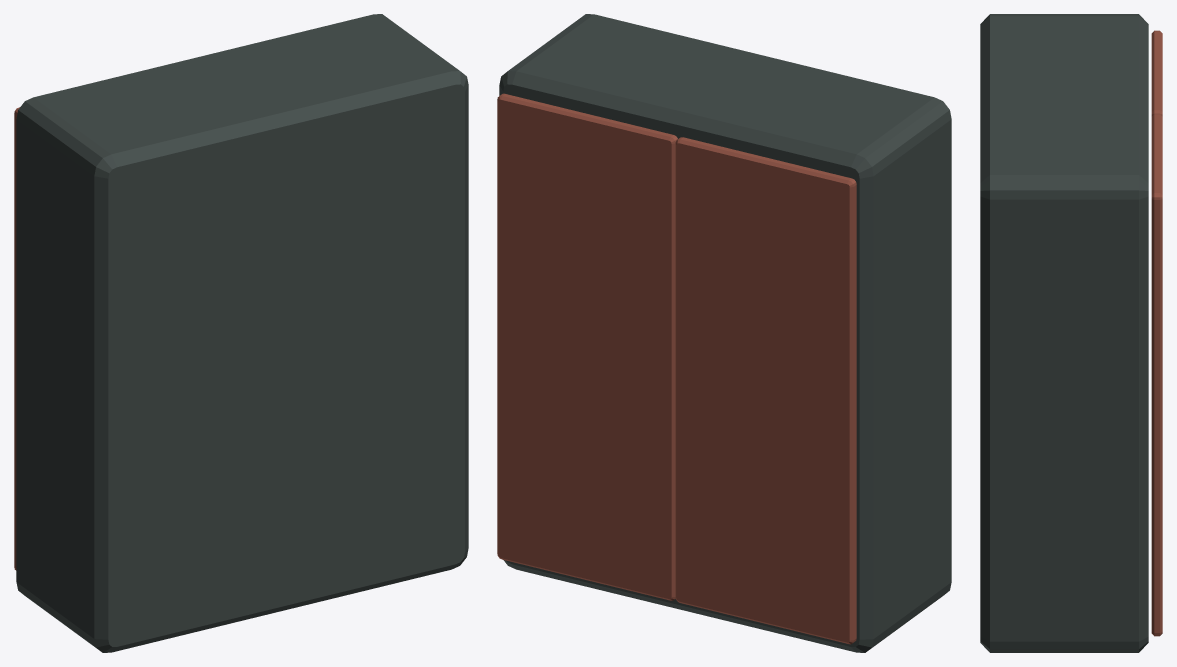
File: cabinet.glb
The picture shows the model from 3 angles, left to right: view 1: azimuth 30°, elevation 25°; view 2: azimuth 150°, elevation 25°; view 3: azimuth 270°, elevation 25°; orthographic projection. The views are drawn at different scales.
Parts seen in each view (by area): view 1: cabinet, doorLeft; view 2: cabinet, doorLeft, doorRight; view 3: cabinet, doorRight, doorLeft.
Part boxes in pixels (x1=…): cabinet: x1=16, y1=14, x2=468, y2=652; doorLeft: x1=14, y1=107, x2=19, y2=570; cabinet: x1=499, y1=14, x2=951, y2=652; doorLeft: x1=675, y1=137, x2=856, y2=644; doorRight: x1=497, y1=93, x2=677, y2=600; cabinet: x1=980, y1=14, x2=1148, y2=652; doorRight: x1=1151, y1=113, x2=1162, y2=636; doorLeft: x1=1151, y1=30, x2=1162, y2=115.
Size of the model in its own units: 1.47 by 1.87 by 0.65.
